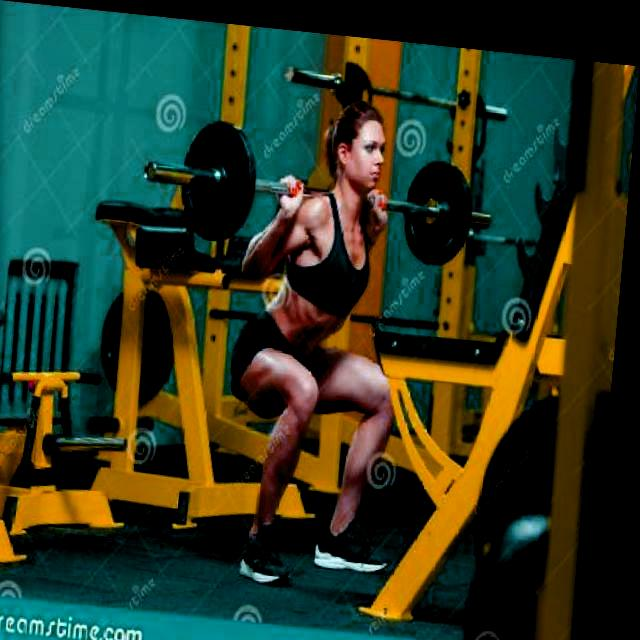barbell: (141, 103, 261, 246)
